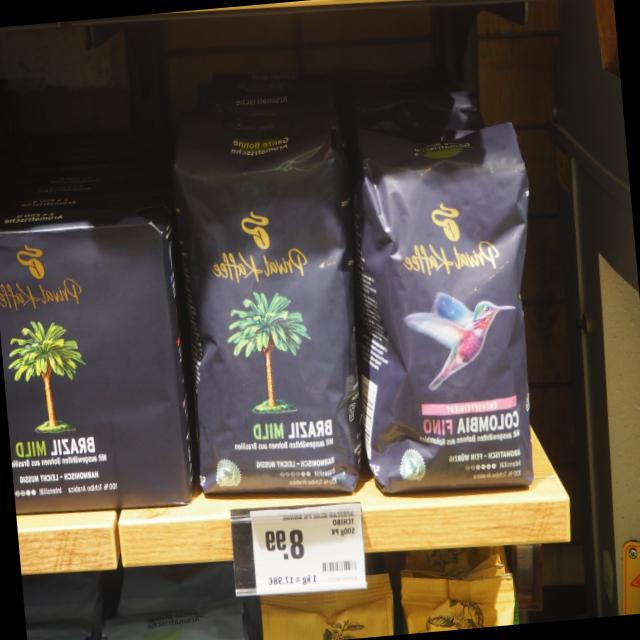BM Bohne: (160, 114, 379, 513)
BM Gemahlen: (0, 190, 201, 518)
C Fino Bohne: (334, 100, 566, 505)
